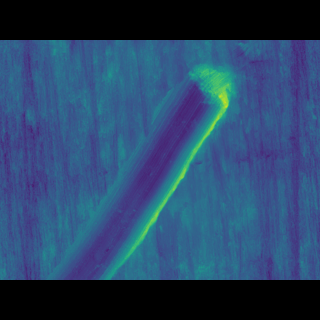Loch: (42, 84, 245, 251)
